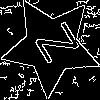Z: (26, 21, 80, 71)
